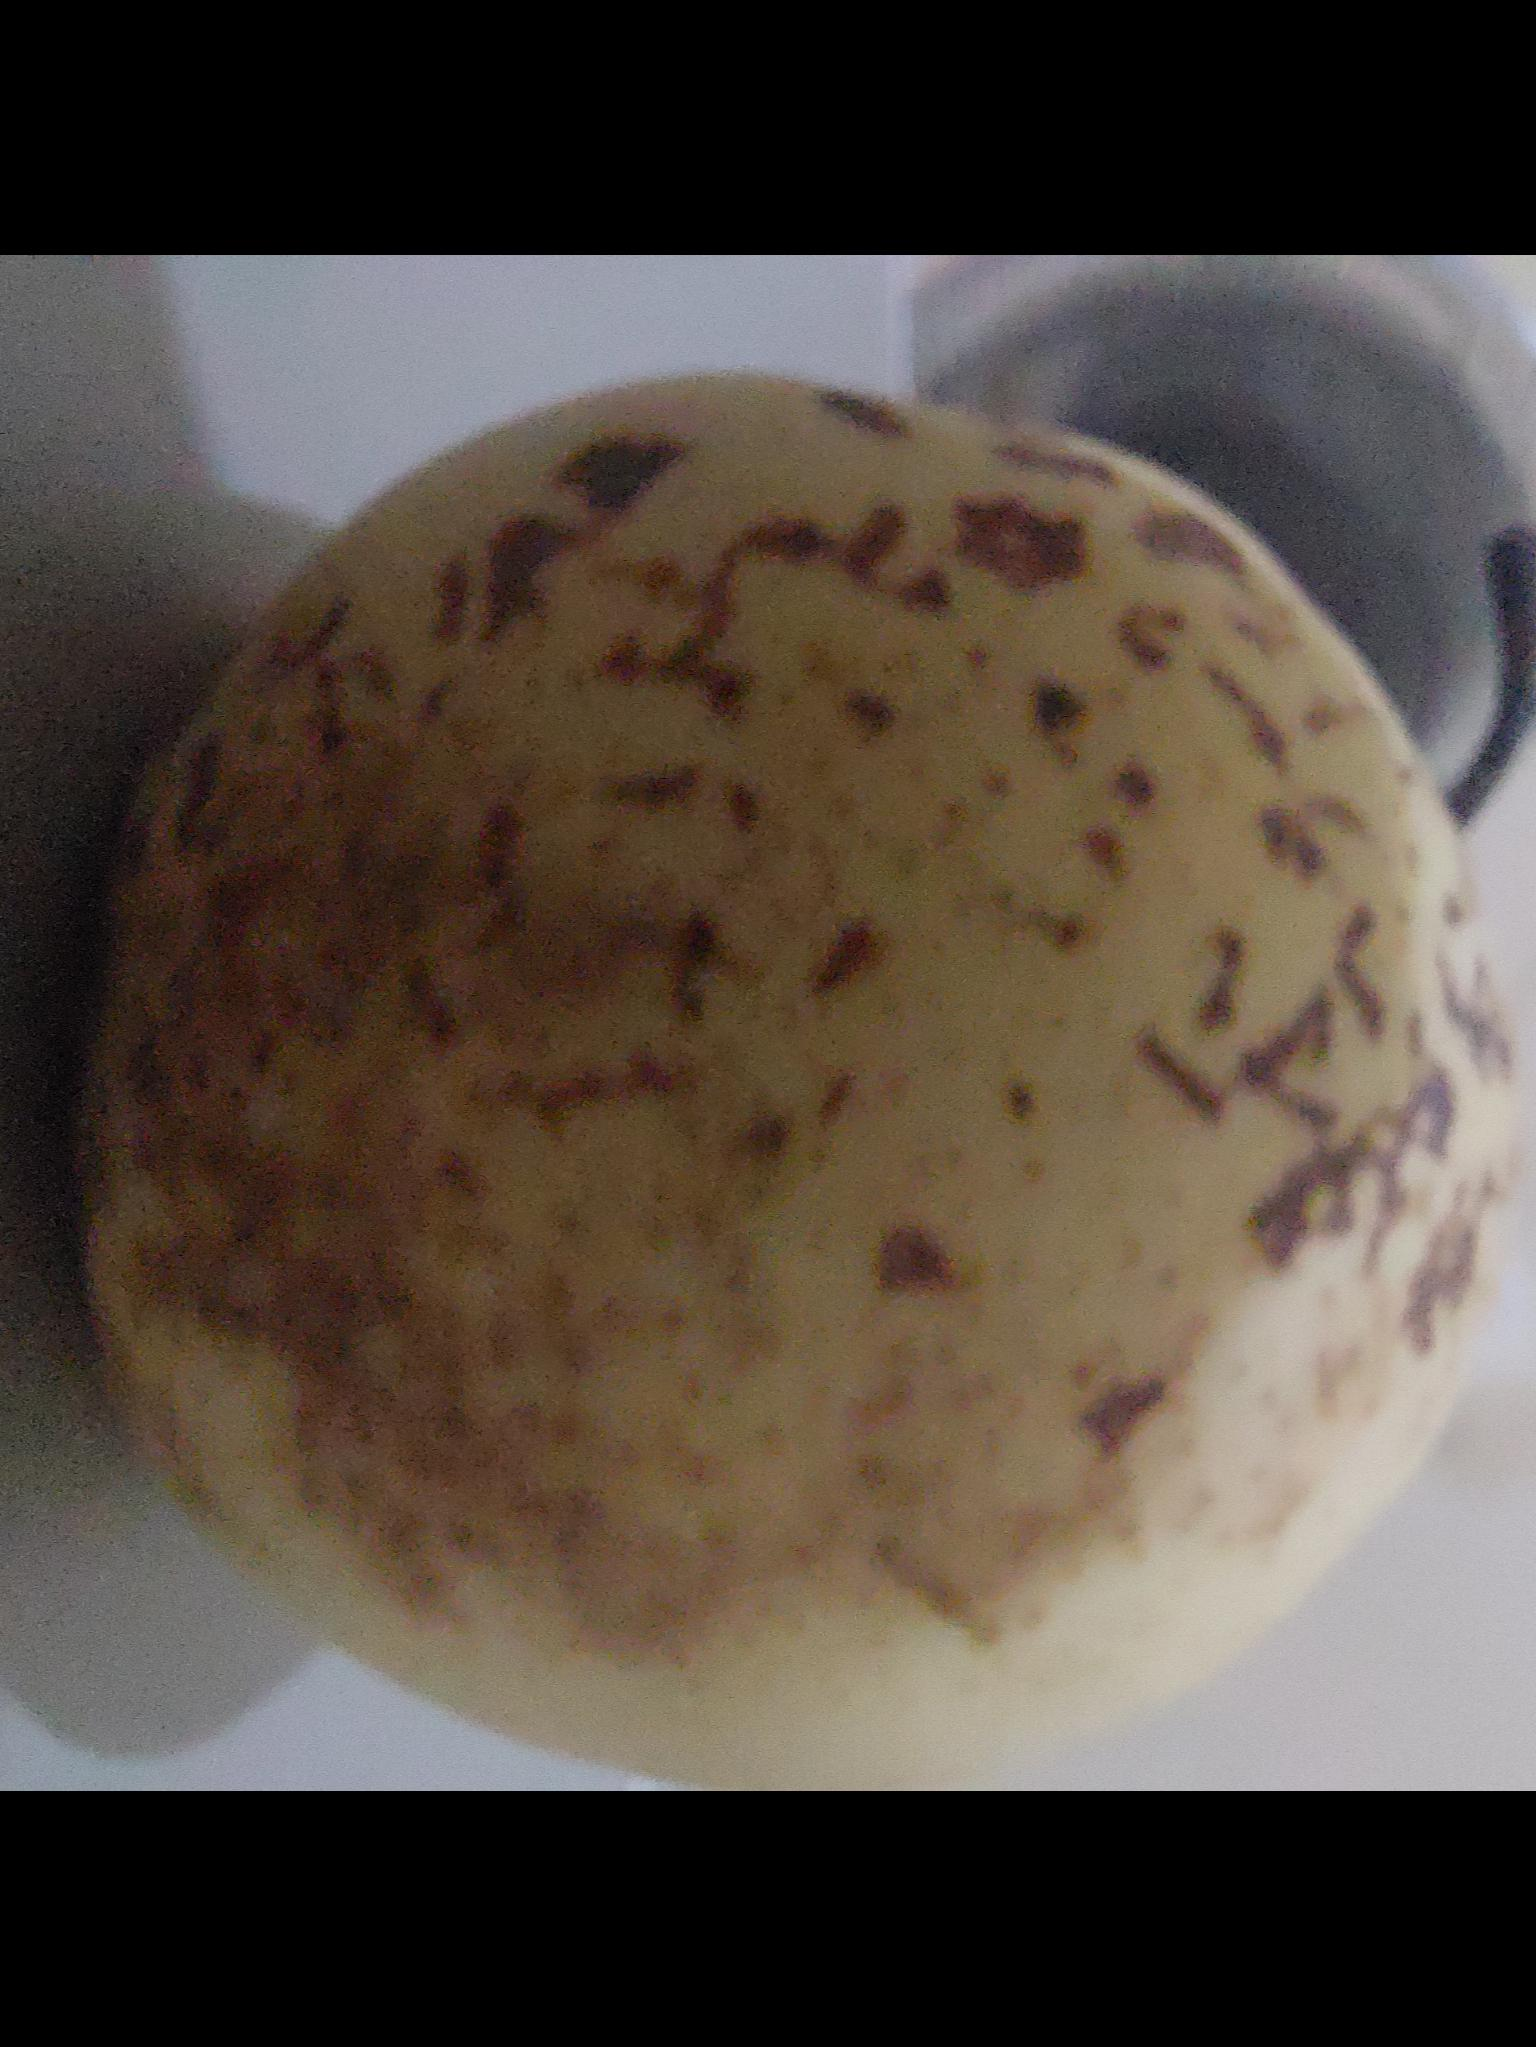Bad Pear: (39, 344, 1536, 1791)
